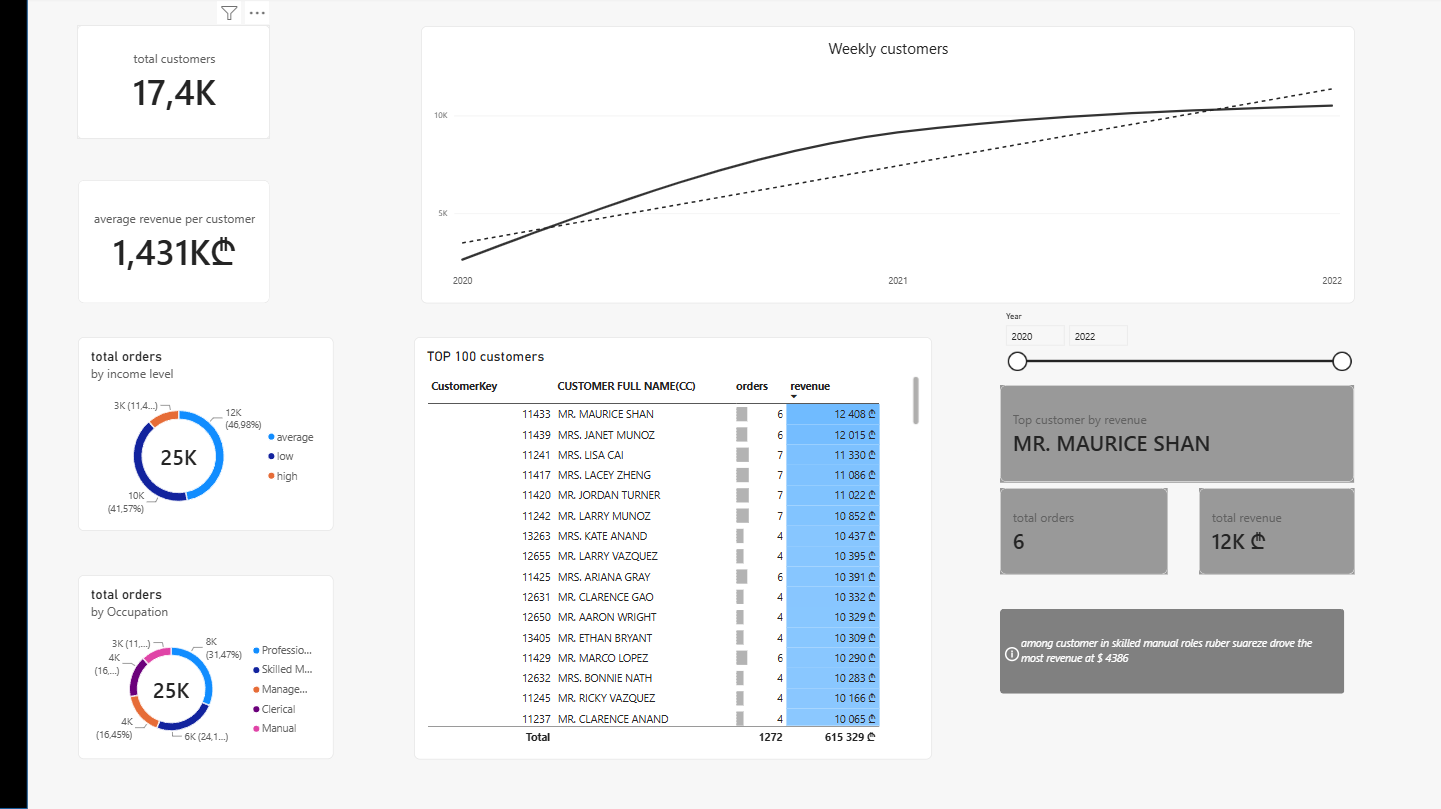

Layout of this report page (visuals, bound fields, positions):
{"tool":"powerbi","page":{"name":"customer detail","canvas":[1920,1080],"ordinal":3},"visuals":[{"type":"shape","box":[0,0,37.9,1079.6],"z":0},{"type":"cardVisual","fields":{"Data":["measure table.total customers"]},"box":[103.2,37.2,257.1,152.2],"z":1000},{"type":"cardVisual","fields":{"Data":["measure table.average revenue per customer"]},"box":[104.9,243.6,255.4,164.1],"z":2000},{"type":"lineChart","title":"Weekly customers","fields":{"Category":["Calendar Lookup.Date.Variation.Date Hierarchy.Year","Calendar Lookup.Date.Variation.Date Hierarchy.Quarter","Calendar Lookup.Date.Variation.Date Hierarchy.Month","Calendar Lookup.Date.Variation.Date Hierarchy.Day"],"Y":["measure table.total customers"]},"box":[561.7,37.9,1241.6,369.1],"z":3000},{"type":"donutChart","fields":{"Category":["Customer Lookup.income level"],"Y":["measure table.total orders"]},"box":[105,452.3,339.9,258.2],"z":4000},{"type":"donutChart","fields":{"Category":["Customer Lookup.Occupation"],"Y":["measure table.total orders"]},"box":[105,768.9,339.9,245.1],"z":5000},{"type":"tableEx","title":"TOP 100 customers","fields":{"Values":["Customer Lookup.CustomerKey","Customer Lookup.CUSTOMER FULL NAME(CC)","measure table.total orders","measure table.total revenue"]},"box":[551.5,452.3,688.6,561.7],"z":6000},{"type":"textbox","box":[370.6,37.9,191.1,151.7],"z":7000},{"type":"cardVisual","fields":{"Data":["Min(Customer Lookup.CUSTOMER FULL NAME(CC))"]},"box":[1332,516.5,471.2,129.8],"z":8000},{"type":"cardVisual","fields":{"Data":["measure table.total orders"]},"box":[1332,653.6,223.2,115.3],"z":9000},{"type":"cardVisual","fields":{"Data":["measure table.total revenue"]},"box":[1596.1,653.6,207.2,115.3],"z":10000},{"type":"slicer","fields":{"Values":["Calendar Lookup.Date.Variation.Date Hierarchy.Year"]},"box":[1332,417.3,471.2,122.6],"z":11000},{"type":"actionButton","box":[1331.4,814,458.1,112.7],"z":11001}]}

Visuals, with their boxes in screenshot pixels (x1, y1, x2, y2), scaled from the page's 1920x1080 canvas onto the 1441x809 screenshot:
shape: rect(0, 0, 28, 808)
cardVisual - measure table.total customers: rect(77, 28, 270, 142)
cardVisual - measure table.average revenue per customer: rect(79, 182, 270, 305)
"Weekly customers" lineChart: rect(422, 28, 1353, 305)
donutChart - Customer Lookup.income level x measure table.total orders: rect(79, 339, 334, 532)
donutChart - Customer Lookup.Occupation x measure table.total orders: rect(79, 576, 334, 760)
"TOP 100 customers" tableEx: rect(414, 339, 931, 760)
textbox: rect(278, 28, 422, 142)
cardVisual - Min(Customer Lookup.CUSTOMER FULL NAME(CC)): rect(1000, 387, 1353, 484)
cardVisual - measure table.total orders: rect(1000, 490, 1167, 576)
cardVisual - measure table.total revenue: rect(1198, 490, 1353, 576)
slicer - Calendar Lookup.Date.Variation.Date Hierarchy.Year: rect(1000, 313, 1353, 404)
actionButton: rect(999, 610, 1343, 694)
